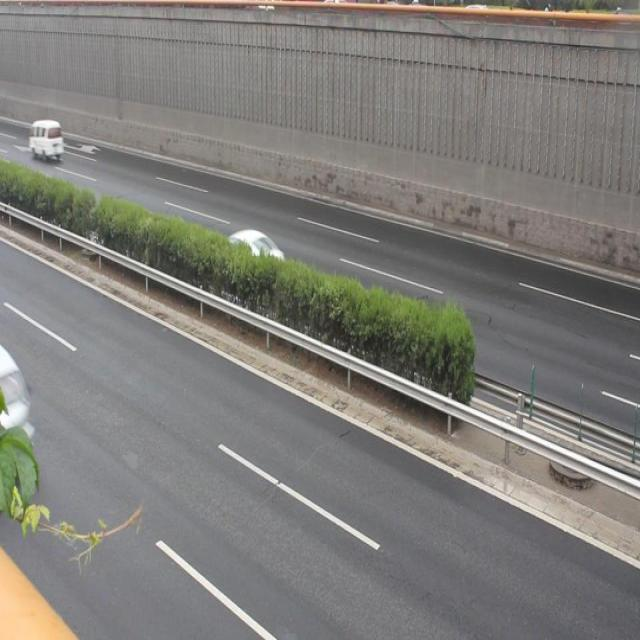car: (210, 230, 284, 296)
